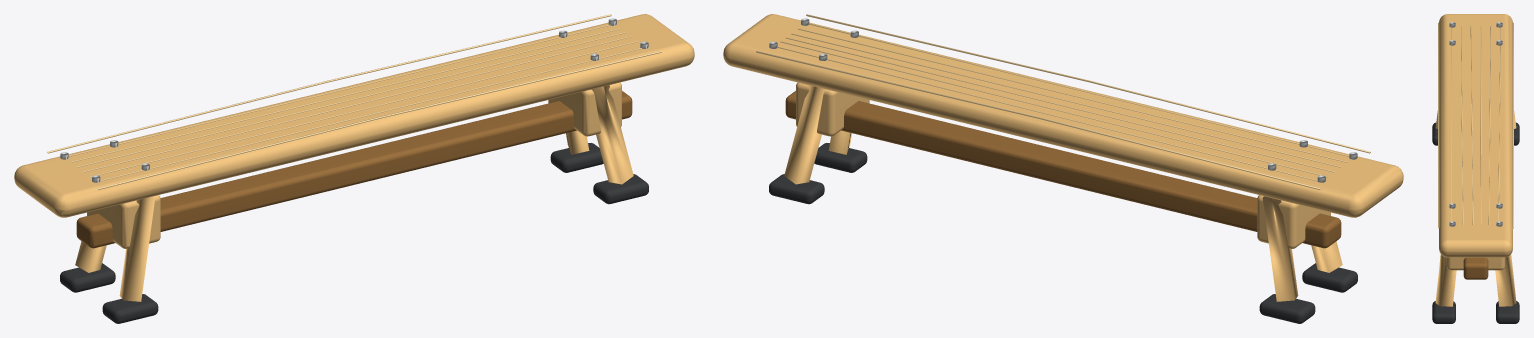
The model's file is Turnbank_3D.glb.
3 views of the same model, side by side, from view 1: azimuth 30°, elevation 25°; view 2: azimuth 150°, elevation 25°; view 3: azimuth 270°, elevation 25° (orthographic). The views are drawn at different scales.
Visible parts, largest first — view 1: Turnbank_3D__web_warm_varnished_turnbank_wood, Turnbank_3D__web_darker_turnbank_underside_shadows, Turnbank_3D__web_pale_turnbank_wood_grain_and_edge_highlight, Turnbank_3D__web_dark_rubber_turnbank_feet, Turnbank_3D__web_chrome_turnbank_screws; view 2: Turnbank_3D__web_warm_varnished_turnbank_wood, Turnbank_3D__web_darker_turnbank_underside_shadows, Turnbank_3D__web_pale_turnbank_wood_grain_and_edge_highlight, Turnbank_3D__web_dark_rubber_turnbank_feet, Turnbank_3D__web_chrome_turnbank_screws; view 3: Turnbank_3D__web_warm_varnished_turnbank_wood, Turnbank_3D__web_pale_turnbank_wood_grain_and_edge_highlight, Turnbank_3D__web_dark_rubber_turnbank_feet, Turnbank_3D__web_darker_turnbank_underside_shadows, Turnbank_3D__web_chrome_turnbank_screws.
Boxes of the visible parts, box(x1,y1,x2,y2) form: Turnbank_3D__web_warm_varnished_turnbank_wood: box(14, 14, 694, 301); Turnbank_3D__web_darker_turnbank_underside_shadows: box(76, 91, 632, 248); Turnbank_3D__web_pale_turnbank_wood_grain_and_edge_highlight: box(47, 14, 661, 189); Turnbank_3D__web_dark_rubber_turnbank_feet: box(60, 143, 648, 323); Turnbank_3D__web_chrome_turnbank_screws: box(60, 18, 648, 182); Turnbank_3D__web_warm_varnished_turnbank_wood: box(723, 14, 1403, 301); Turnbank_3D__web_darker_turnbank_underside_shadows: box(785, 91, 1341, 248); Turnbank_3D__web_pale_turnbank_wood_grain_and_edge_highlight: box(756, 14, 1370, 189); Turnbank_3D__web_dark_rubber_turnbank_feet: box(769, 143, 1357, 323); Turnbank_3D__web_chrome_turnbank_screws: box(769, 18, 1357, 182); Turnbank_3D__web_warm_varnished_turnbank_wood: box(1435, 14, 1516, 306); Turnbank_3D__web_pale_turnbank_wood_grain_and_edge_highlight: box(1438, 22, 1513, 228); Turnbank_3D__web_dark_rubber_turnbank_feet: box(1432, 122, 1519, 323); Turnbank_3D__web_darker_turnbank_underside_shadows: box(1463, 257, 1488, 279); Turnbank_3D__web_chrome_turnbank_screws: box(1449, 22, 1502, 226).
Size of the model in its own units: 2.45 by 0.518 by 0.3885.
